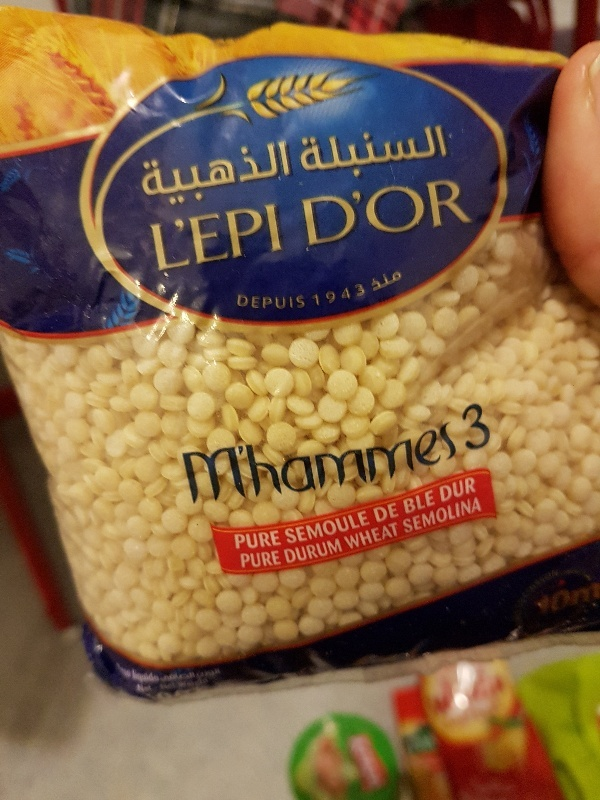text: (193, 420, 208, 514), (209, 420, 224, 514), (225, 420, 240, 514), (241, 420, 256, 514), (257, 420, 272, 514), (273, 420, 288, 514), (289, 420, 304, 514), (305, 420, 320, 514), (321, 420, 336, 514), (337, 420, 352, 514), (353, 420, 368, 514), (369, 420, 384, 514), (385, 420, 400, 514), (401, 420, 416, 514), (417, 420, 432, 514), (433, 420, 448, 514), (180, 420, 192, 514), (305, 176, 320, 249), (321, 176, 336, 249), (337, 176, 352, 249), (353, 176, 368, 249), (369, 176, 384, 249), (385, 176, 400, 249), (401, 176, 416, 249), (417, 176, 432, 249), (433, 176, 448, 249), (449, 176, 464, 249), (145, 139, 160, 210), (161, 139, 176, 210), (177, 139, 192, 210), (193, 139, 208, 210), (209, 139, 224, 210), (225, 139, 240, 210), (241, 139, 256, 210), (257, 139, 272, 210), (273, 139, 288, 210), (161, 203, 176, 273), (177, 203, 192, 273), (193, 203, 208, 273), (209, 203, 224, 273), (225, 203, 240, 273), (241, 203, 256, 273), (257, 203, 272, 273), (449, 420, 459, 514), (305, 123, 320, 183), (321, 123, 336, 183), (337, 123, 352, 183), (353, 123, 368, 183), (369, 123, 384, 183), (385, 123, 400, 183), (401, 123, 416, 183), (417, 123, 432, 183), (433, 123, 448, 183), (149, 203, 160, 273), (465, 403, 480, 452), (273, 203, 283, 273), (465, 176, 474, 249), (294, 123, 304, 183), (481, 403, 493, 452), (401, 496, 416, 535), (417, 496, 432, 535), (433, 496, 448, 535), (449, 496, 464, 535), (465, 496, 480, 535), (289, 510, 304, 546), (305, 510, 320, 546), (321, 510, 336, 546), (337, 510, 352, 546), (353, 510, 368, 546), (385, 521, 401, 551), (353, 521, 368, 551), (369, 521, 384, 551), (449, 475, 464, 504), (401, 488, 416, 517), (417, 488, 432, 517), (369, 268, 384, 297), (385, 268, 400, 297), (289, 537, 304, 565), (305, 537, 320, 565), (321, 537, 336, 565), (385, 500, 401, 525), (465, 475, 478, 504), (321, 283, 336, 308), (337, 283, 352, 308), (353, 283, 368, 308), (139, 139, 144, 210), (436, 475, 448, 504), (241, 530, 256, 551), (257, 530, 272, 551), (241, 549, 256, 570), (257, 549, 272, 570), (372, 500, 384, 525), (342, 521, 352, 551), (241, 292, 256, 312), (257, 292, 272, 312), (273, 292, 288, 312), (289, 292, 304, 312), (300, 176, 304, 249), (289, 139, 293, 210), (309, 283, 320, 308), (337, 537, 345, 565), (273, 530, 283, 551), (273, 549, 283, 570), (460, 403, 464, 452), (283, 510, 288, 546), (282, 537, 288, 565), (233, 530, 240, 551), (433, 488, 438, 517), (369, 510, 372, 546), (365, 268, 368, 297), (449, 123, 450, 183), (237, 292, 240, 312), (305, 292, 308, 312), (401, 268, 403, 297), (481, 496, 482, 535)
